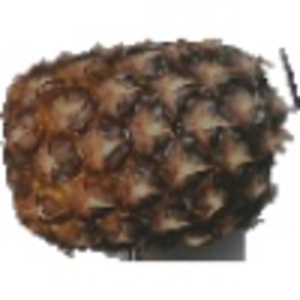abacaxi: (3, 36, 294, 252)
